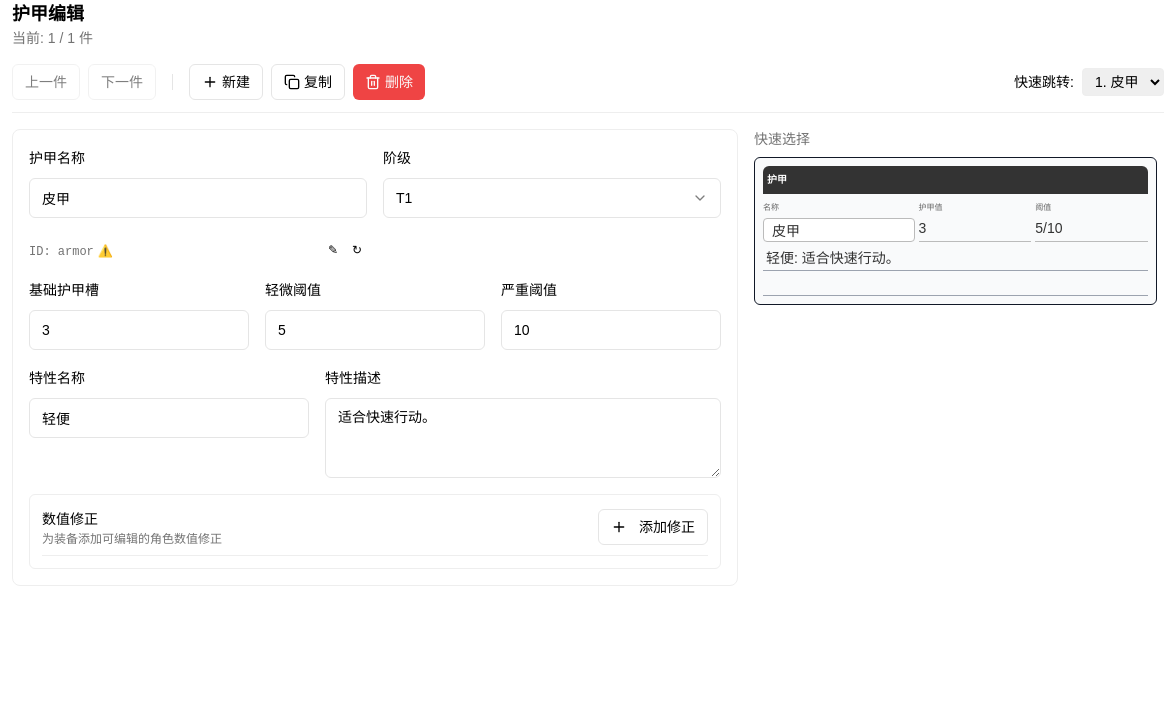
Test: equipment item tabs › edits armor tier and keeps invalid numeric typing out of the draft
This screenshot has width=1176, height=720.
Check: the dropdown named "阶级" is shown, box x1=383 y1=178 x2=721 y2=218
Replace the text in the field labelled "基础护甲槽" with "abc" at [139, 330], box x1=29 y1=310 x2=249 y2=350
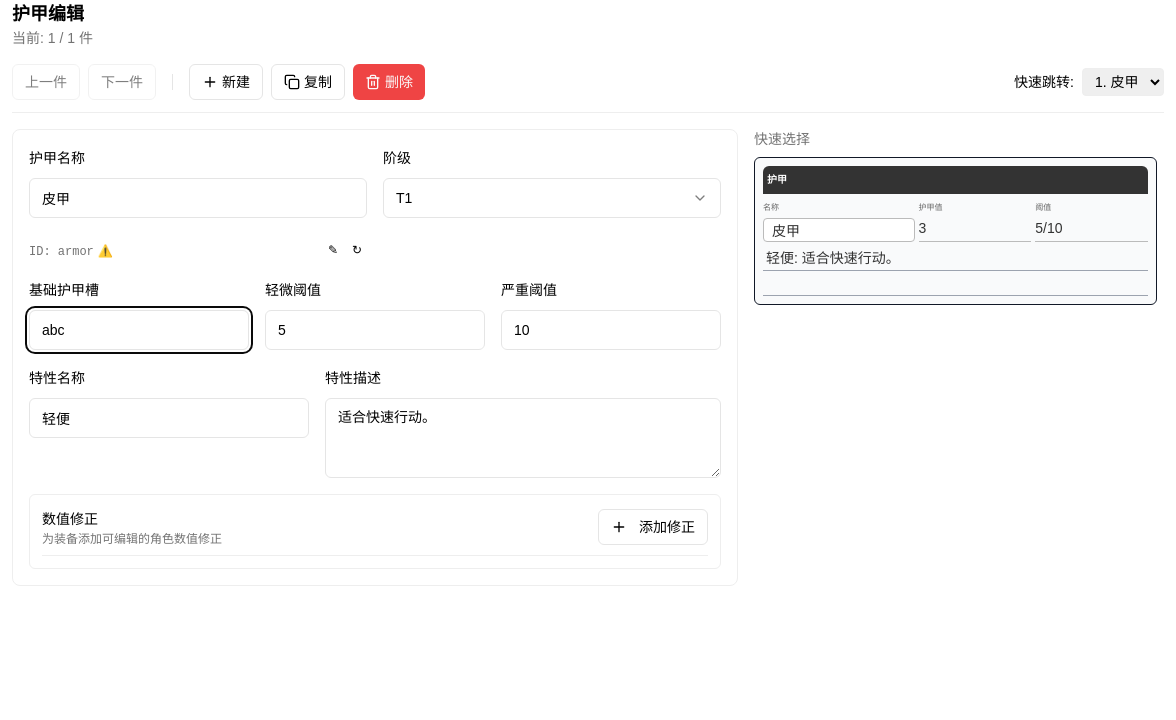
Press Tab
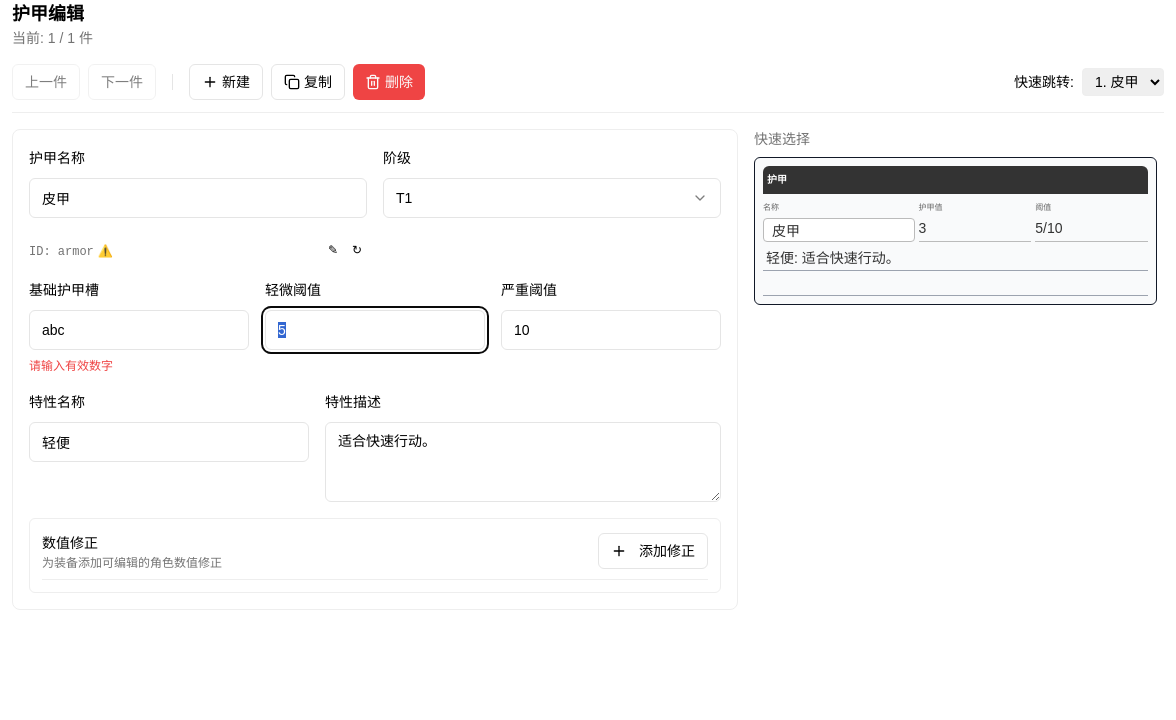
Check: the text "请输入有效数字" is shown, box x1=29 y1=359 x2=113 y2=373
